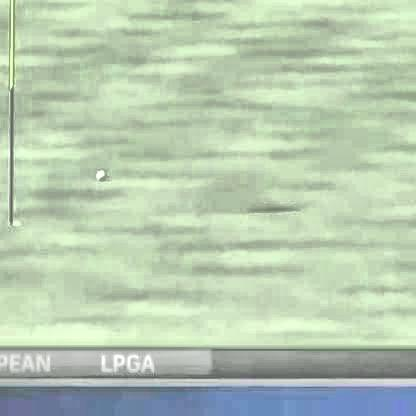golfball: (94, 166, 104, 177)
